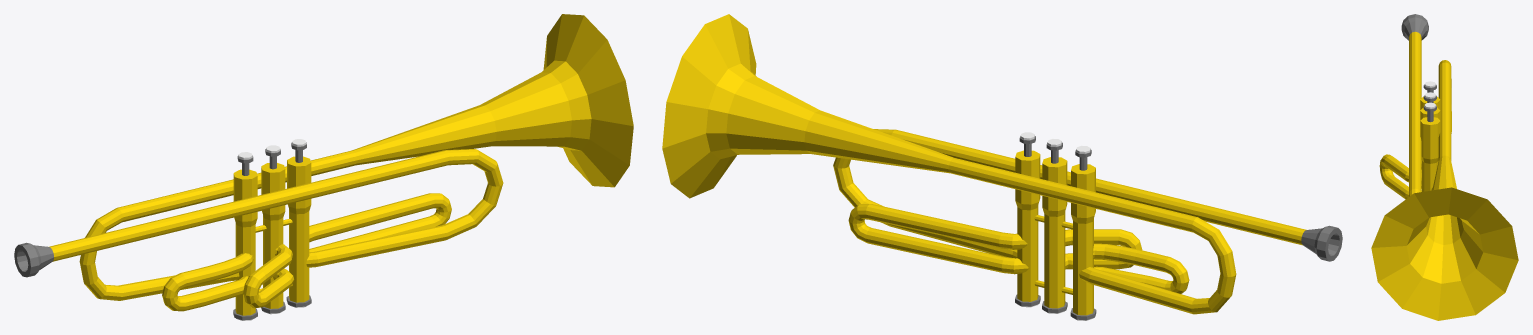
File: Trumpet.fbx
3 renders of one model, left to right at view 1: azimuth 30°, elevation 25°; view 2: azimuth 150°, elevation 25°; view 3: azimuth 270°, elevation 25°, orthographic. The views are drawn at different scales.
Visible parts, largest first — view 1: Cylinder; view 2: Cylinder; view 3: Cylinder.
Boxes of the visible parts, x1,y1,x2,y2 form: Cylinder: (14, 14, 633, 320); Cylinder: (662, 14, 1342, 320); Cylinder: (1371, 14, 1518, 320).
Bounding box in the file's own units: 53 × 17.82 × 14.27.
